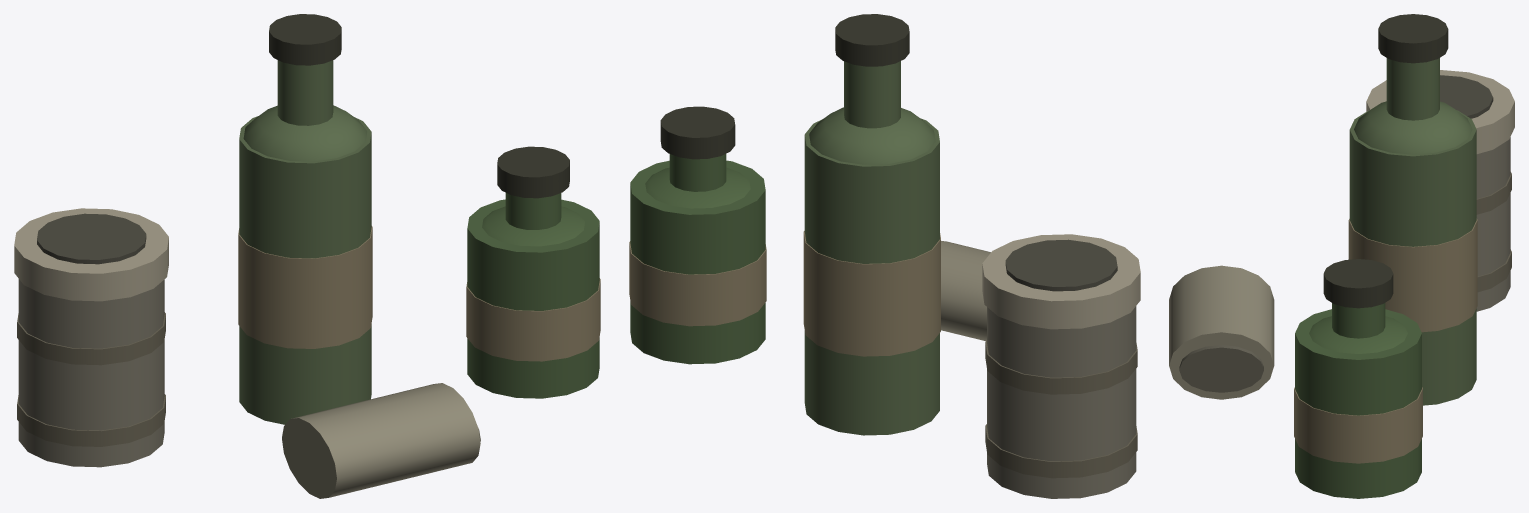
File: CMU3DDecorFloorGlass2.glb
3 views of the same model, side by side, from view 1: azimuth 30°, elevation 25°; view 2: azimuth 150°, elevation 25°; view 3: azimuth 270°, elevation 25° (orthographic). The views are drawn at different scales.
Visible parts, largest first — view 1: discarded bottle body (×2), dented metal can, weathered paper label (×2), crushed can, rolled can rim, bottle shoulder (×2), bottle mouth rim (×2), can seam (×2), bottle neck (×2), dark can top; view 2: discarded bottle body (×2), dented metal can, weathered paper label (×2), rolled can rim, bottle shoulder (×2), bottle mouth rim (×2), can seam (×2), bottle neck (×2), dark can top, crushed can; view 3: discarded bottle body (×2), weathered paper label (×2), crushed can, bottle shoulder (×2), bottle mouth rim (×2), bottle neck (×2), dented metal can, crushed can end, rolled can rim, dark can top, can seam (×2).
Boxes of the visible parts, left/top/right/bottom form: discarded bottle body (×2): left=239, top=116, right=599, bottom=424; dented metal can: left=18, top=279, right=164, bottom=467; weathered paper label (×2): left=238, top=226, right=600, bottom=361; crushed can: left=282, top=383, right=480, bottom=498; rolled can rim: left=14, top=208, right=168, bottom=301; bottle shoulder (×2): left=243, top=105, right=584, bottom=246; bottle mouth rim (×2): left=269, top=14, right=569, bottom=198; can seam (×2): left=17, top=312, right=165, bottom=446; bottle neck (×2): left=277, top=60, right=561, bottom=229; dark can top: left=37, top=213, right=146, bottom=264; discarded bottle body (×2): left=630, top=118, right=939, bottom=435; dented metal can: left=987, top=306, right=1136, bottom=498; weathered paper label (×2): left=629, top=231, right=940, bottom=356; rolled can rim: left=982, top=234, right=1140, bottom=329; bottle shoulder (×2): left=645, top=107, right=935, bottom=208; bottle mouth rim (×2): left=660, top=14, right=909, bottom=159; can seam (×2): left=985, top=340, right=1137, bottom=478; bottle neck (×2): left=669, top=61, right=900, bottom=191; dark can top: left=1005, top=239, right=1117, bottom=291; crushed can: left=941, top=241, right=990, bottom=341; discarded bottle body (×2): left=1295, top=110, right=1476, bottom=498; weathered paper label (×2): left=1294, top=218, right=1477, bottom=463; crushed can: left=1169, top=265, right=1274, bottom=399; bottle shoulder (×2): left=1309, top=101, right=1472, bottom=353; bottle mouth rim (×2): left=1323, top=14, right=1448, bottom=308; bottle neck (×2): left=1332, top=58, right=1439, bottom=338; dented metal can: left=1476, top=137, right=1510, bottom=311; crushed can end: left=1179, top=345, right=1263, bottom=392; rolled can rim: left=1366, top=70, right=1514, bottom=153; dark can top: left=1440, top=75, right=1493, bottom=118; can seam (×2): left=1476, top=172, right=1511, bottom=292.
Bounding box in the file's own units: 0.6584 × 0.442 × 0.3948.
